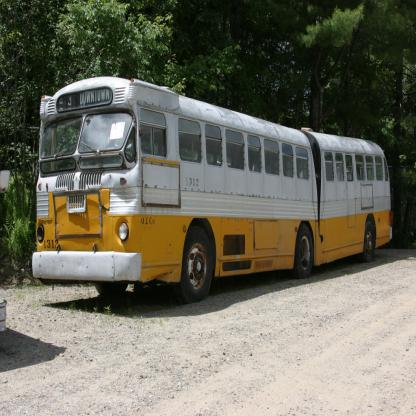Bus: (32, 76, 393, 305)
